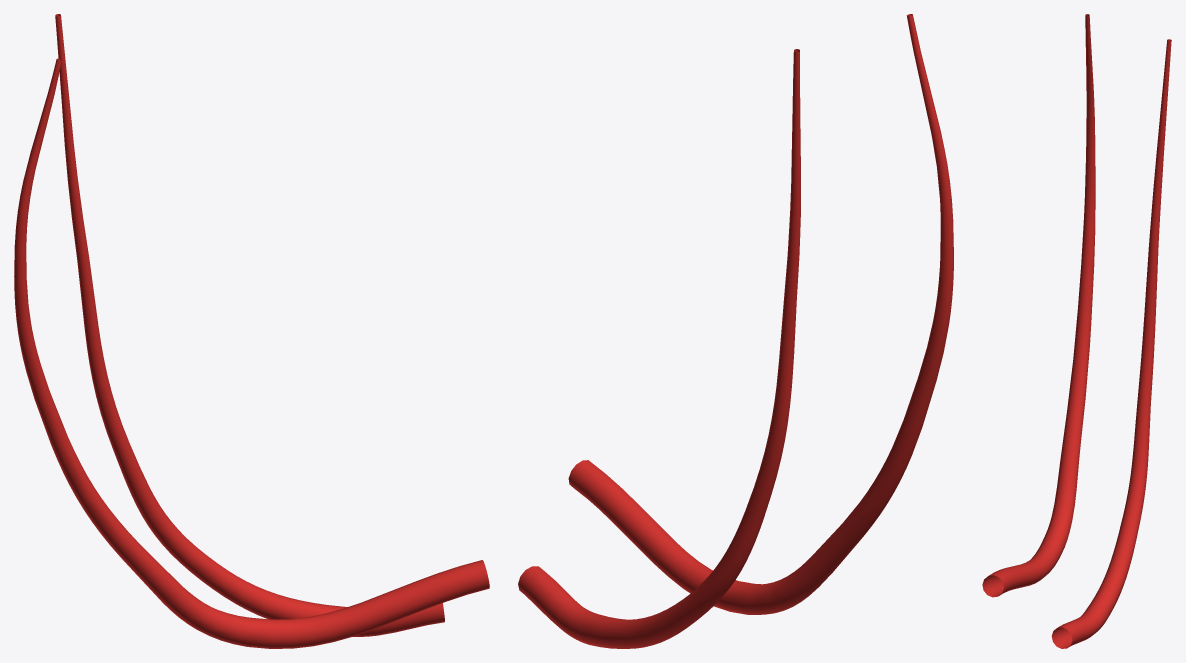
The model's file is circulatorio-middle-meningeal-artery-l.glb.
3 renders of one model, left to right at view 1: azimuth 30°, elevation 25°; view 2: azimuth 150°, elevation 25°; view 3: azimuth 270°, elevation 25°, orthographic. The views are drawn at different scales.
Parts seen in each view (by area): view 1: Accessory branch of middle meningeal artery.l, Middle meningeal artery.l; view 2: Accessory branch of middle meningeal artery.l, Middle meningeal artery.l; view 3: Accessory branch of middle meningeal artery.l, Middle meningeal artery.l.
Boxes of the visible parts, x1,y1,x2,y2 form: Accessory branch of middle meningeal artery.l: (14,58,489,648); Middle meningeal artery.l: (55,14,444,636); Accessory branch of middle meningeal artery.l: (568,14,953,614); Middle meningeal artery.l: (518,49,800,648); Accessory branch of middle meningeal artery.l: (982,14,1095,597); Middle meningeal artery.l: (1051,39,1171,648).
Bounding box in the file's own units: 0.0162 × 0.0242 × 0.00824.
